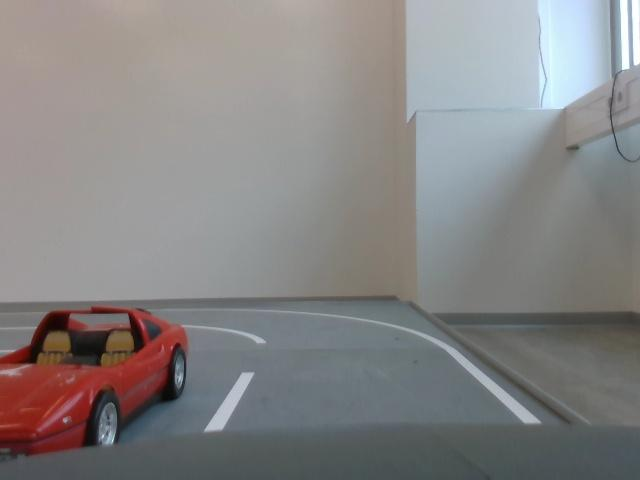car: (1, 296, 197, 464)
